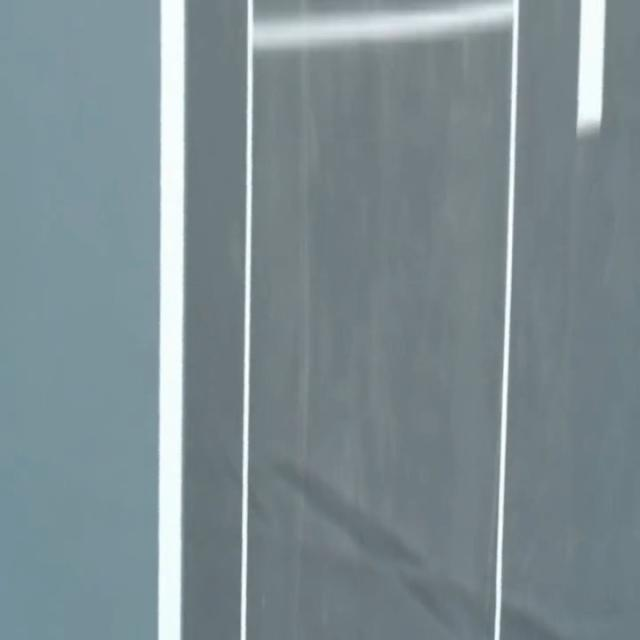center: (576, 0, 605, 137)
left: (157, 0, 184, 639)
